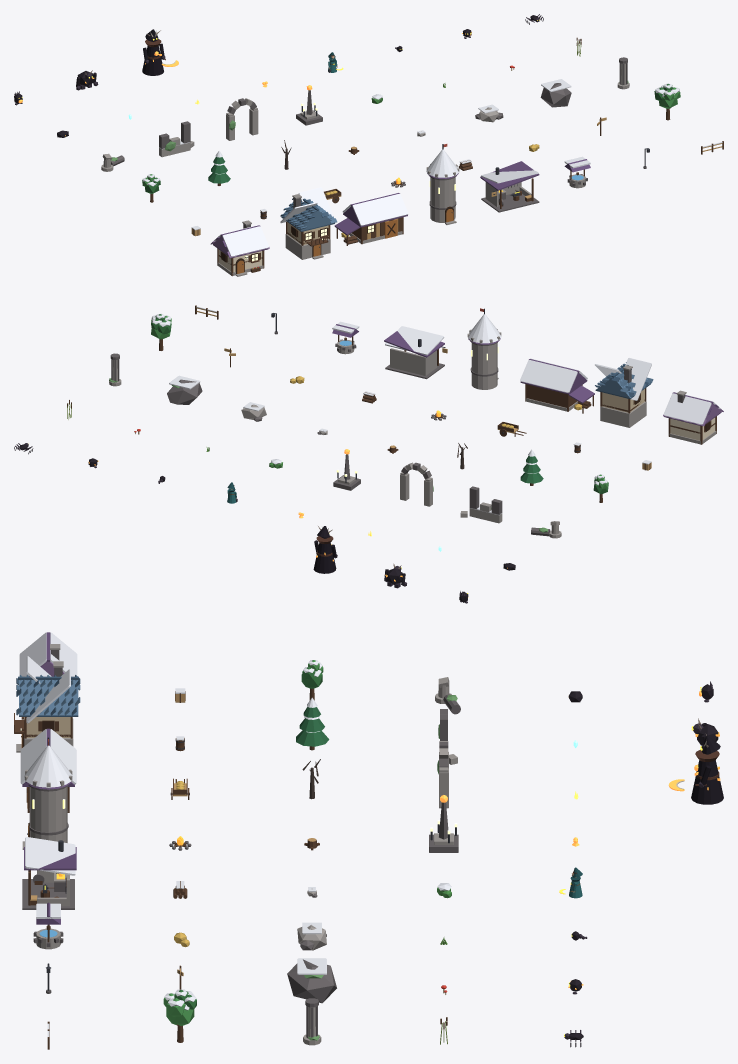
Rendered from kit.glb.
3 renders of one model, top to bottom at view 1: azimuth 30°, elevation 25°; view 2: azimuth 150°, elevation 25°; view 3: azimuth 270°, elevation 25°, orthographic. The views are drawn at different scales.
Parts seen in each view (by area): view 1: Snow_Roof-1.002, Snow_Roof-1, TowerBody, Roof.001, Snow_TowerRoof, Lower, ForgeRoof, Boulder, ForgeFloor, WCloak, Snow_ForgeRoof; view 2: Snow_Roof1.002, TowerBody, Snow_Roof1, Snow_ForgeRoof, Lower, BackWall, Walls.002, Walls, Snow_TowerRoof, Boulder, Snow_Roof1.001, WCloak (+1 smaller); view 3: TowerBody, Snow_ForgeRoof, Roof.001, Boulder, Snow_TowerRoof, WCloak, ForgeFloor, Snow_Roof1.002, Snow_Roof-1.002, Snow_Roof-1.
Boxes of the visible parts, x1,y1,x2,y2 form: Snow_Roof-1.002: (352, 193, 408, 225); Snow_Roof-1: (222, 226, 268, 256); TowerBody: (430, 177, 455, 222); Roof.001: (282, 201, 331, 230); Snow_TowerRoof: (426, 149, 458, 177); Lower: (285, 234, 330, 259); ForgeRoof: (480, 161, 539, 190); Boulder: (540, 83, 571, 107); ForgeFloor: (481, 193, 539, 212); WCloak: (142, 46, 163, 75); Snow_ForgeRoof: (481, 170, 538, 183); Snow_Roof1.002: (520, 360, 577, 392); TowerBody: (471, 343, 497, 389); Snow_Roof1: (663, 393, 711, 424); Snow_ForgeRoof: (385, 326, 444, 355); Lower: (600, 401, 646, 427); BackWall: (390, 348, 426, 375); Walls.002: (527, 384, 577, 407); Walls: (670, 417, 715, 440); Snow_TowerRoof: (468, 314, 501, 343); Boulder: (167, 379, 202, 404); Snow_Roof1.001: (625, 358, 651, 400); WCloak: (313, 543, 336, 573); TowerBody: (29, 786, 67, 842); Snow_ForgeRoof: (25, 837, 75, 875); Roof.001: (19, 680, 78, 715); Boulder: (287, 959, 336, 1003); Snow_TowerRoof: (24, 745, 73, 787); WCloak: (691, 760, 723, 804); ForgeFloor: (22, 879, 74, 909); Snow_Roof1.002: (50, 729, 76, 784); Snow_Roof-1.002: (20, 729, 46, 784); Snow_Roof-1: (19, 632, 46, 676).
Bounding box in the file's own units: 52.3 × 7.62 × 43.1.
